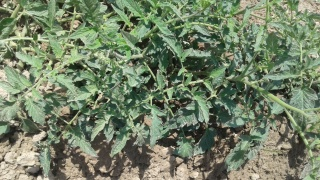tomato plant: (165, 5, 314, 128), (11, 1, 159, 124)
